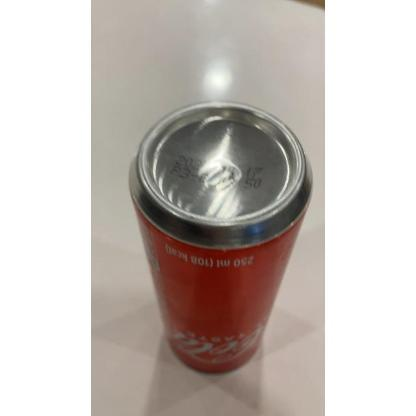Can: (124, 97, 316, 377)
